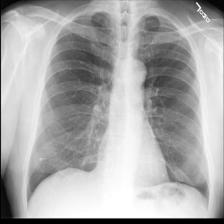normal: (24, 6, 214, 213)
